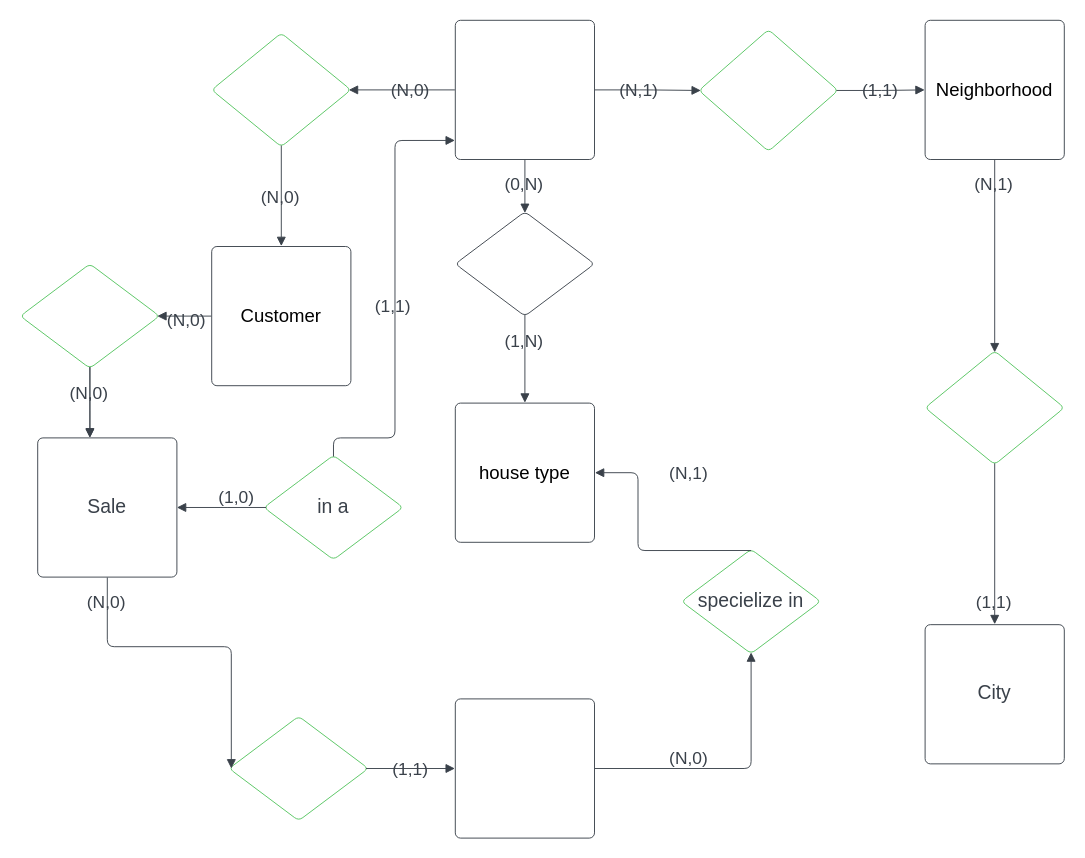
Image size: 1085x858. Some labels were removed from this diagram. The shapes that lost their labels are listed below. From the top down, each one's box as (x1, y1, x2, y2) in pixels, then its label:
(211, 32, 351, 147): Owned by
(454, 19, 594, 159): House
(698, 29, 838, 151): located at a specific
(454, 211, 594, 316): From a
(19, 263, 159, 368): Using
(924, 350, 1064, 464): part of a
(228, 715, 368, 821): made by
(454, 698, 594, 838): SalesMan
